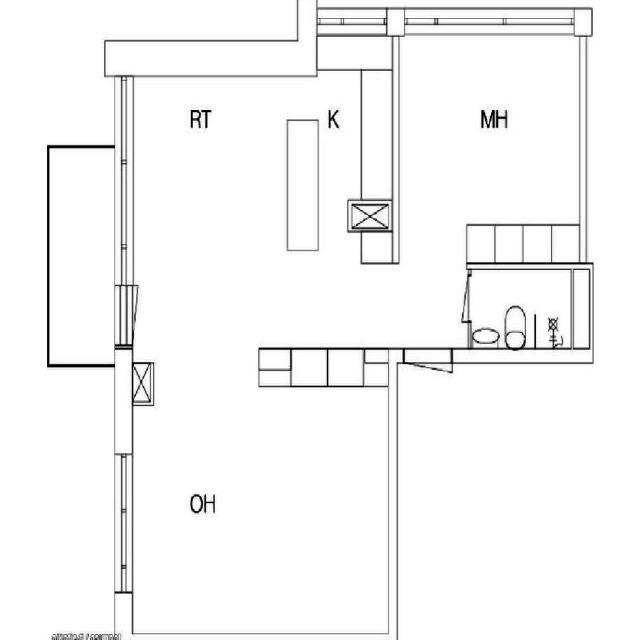door: (403, 348, 452, 432), (114, 286, 176, 345), (434, 273, 471, 320)
